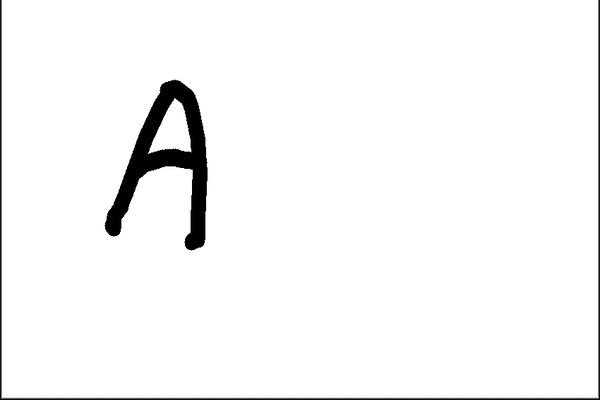A: (90, 70, 220, 262)
